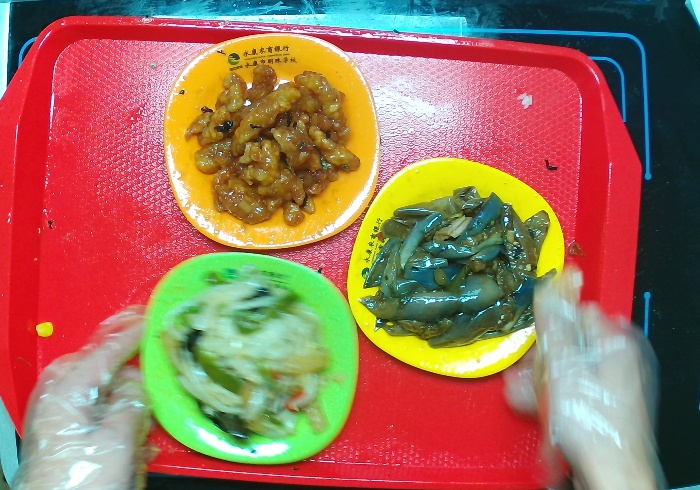YKMZ-Huang_Se_Fang_Die: (345, 154, 569, 380)
YKMZ-Ju_Se_Fang_Die: (161, 28, 386, 251)
YKMZ-Lv_Se_Fang_Die: (139, 251, 358, 470)
